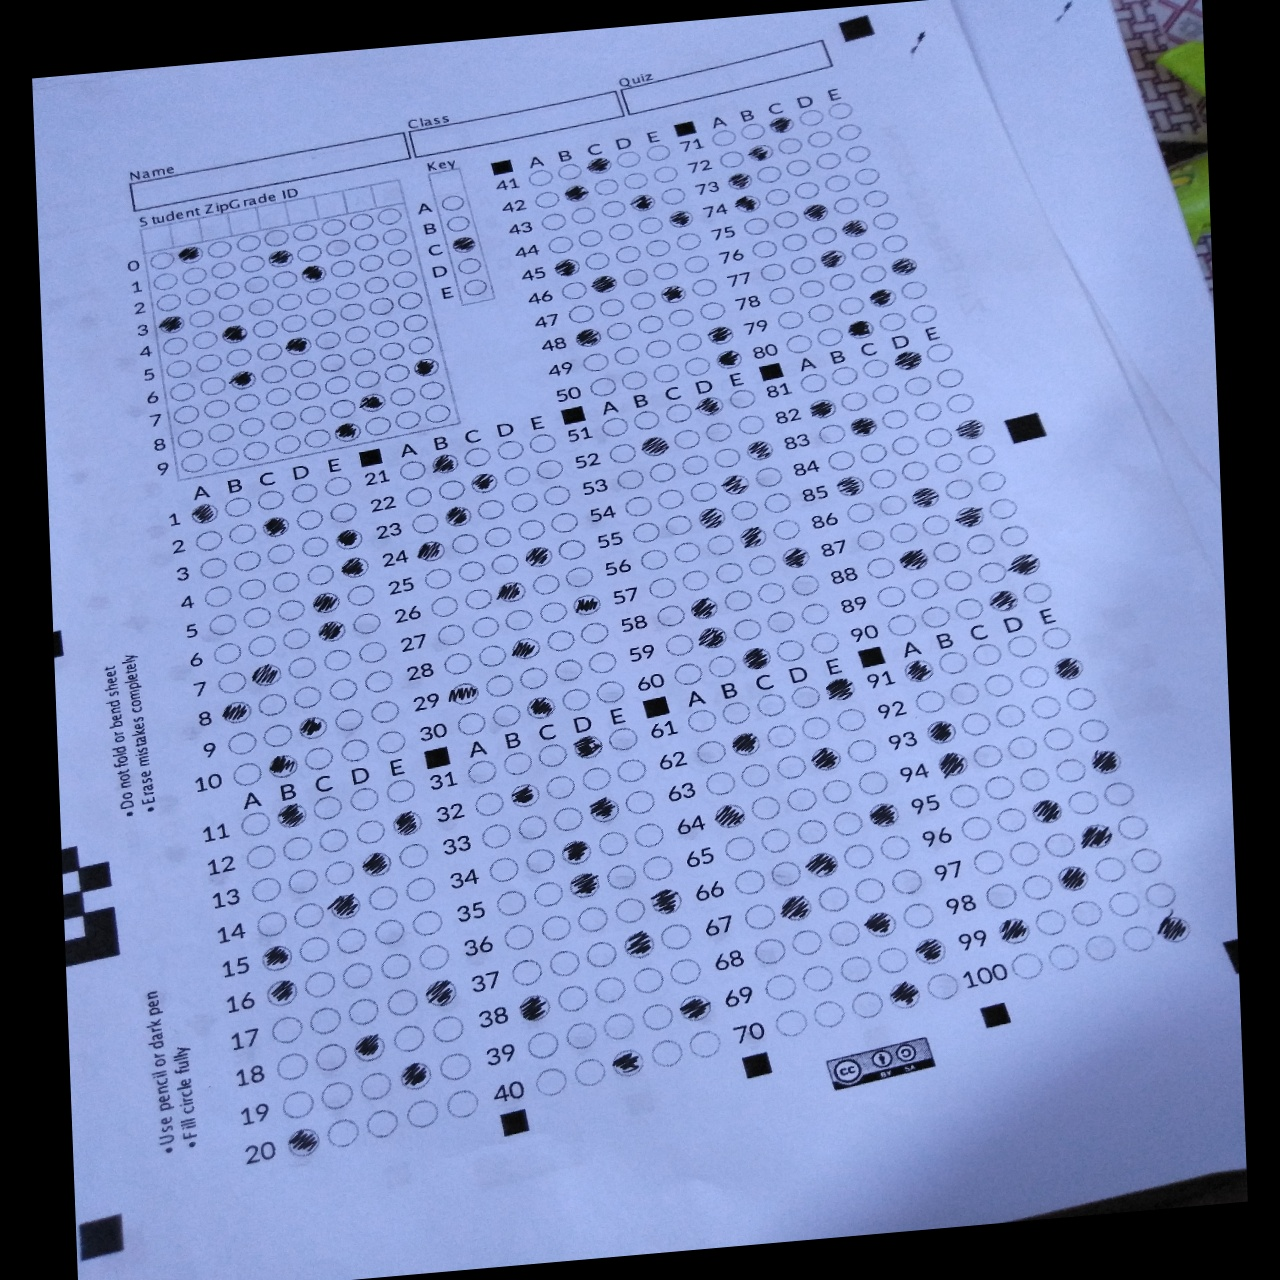not-c: (922, 971, 964, 1005), (1115, 922, 1156, 956), (806, 998, 847, 1032), (1143, 877, 1183, 911), (1104, 888, 1144, 922), (1041, 940, 1081, 974), (1005, 949, 1044, 983), (1125, 843, 1166, 876), (796, 961, 837, 994), (833, 952, 874, 985), (1033, 906, 1074, 939), (1080, 932, 1121, 965), (813, 881, 855, 914), (543, 772, 583, 805), (268, 1013, 308, 1046), (760, 971, 799, 1003), (873, 942, 913, 975), (1064, 897, 1104, 930), (767, 1007, 806, 1040), (828, 808, 867, 840), (520, 845, 561, 877), (573, 903, 612, 935), (584, 938, 622, 971), (443, 1088, 482, 1121), (430, 1013, 469, 1046), (749, 937, 788, 969), (983, 879, 1022, 912), (631, 818, 670, 850), (549, 803, 588, 835), (593, 828, 633, 859), (527, 879, 567, 911), (561, 1020, 601, 1051), (506, 956, 546, 988), (382, 986, 422, 1017), (376, 952, 416, 983), (369, 917, 409, 948), (434, 1050, 474, 1082), (411, 942, 451, 974), (686, 1027, 726, 1058), (599, 1010, 639, 1042), (639, 1001, 679, 1033), (338, 961, 377, 993), (754, 824, 794, 856), (839, 840, 879, 872), (888, 865, 928, 897), (1037, 622, 1077, 654), (1017, 872, 1058, 903), (314, 1040, 352, 1073), (1092, 855, 1130, 887), (826, 915, 864, 948), (409, 907, 448, 939), (602, 860, 641, 892), (278, 1089, 316, 1121), (319, 1080, 358, 1111), (358, 1071, 396, 1103), (365, 1108, 403, 1139), (659, 921, 697, 953), (646, 1036, 685, 1068), (792, 815, 831, 846), (782, 783, 821, 815), (850, 874, 888, 906), (818, 774, 857, 805), (901, 899, 940, 931), (610, 894, 649, 925), (553, 982, 593, 1013), (386, 1023, 425, 1054), (331, 926, 370, 956), (1064, 787, 1104, 817), (717, 835, 757, 865), (1099, 779, 1139, 810), (1051, 753, 1091, 783), (1012, 764, 1051, 795), (1040, 831, 1080, 862), (1005, 838, 1044, 869), (981, 774, 1021, 804), (945, 782, 985, 812), (501, 922, 538, 954), (847, 989, 885, 1021), (621, 787, 659, 818), (539, 912, 577, 944), (545, 948, 583, 980), (533, 1065, 571, 1097), (403, 1098, 441, 1130), (669, 956, 707, 988), (628, 964, 666, 995), (297, 934, 334, 966), (301, 969, 339, 1001), (855, 765, 892, 797), (639, 852, 678, 883), (591, 974, 629, 1005), (570, 1057, 608, 1088), (305, 1005, 343, 1035), (346, 996, 384, 1027), (273, 1049, 312, 1080), (325, 1118, 363, 1149), (745, 792, 784, 823), (876, 831, 914, 862), (990, 804, 1029, 835), (969, 847, 1008, 878), (738, 901, 778, 931), (729, 867, 769, 897), (1115, 812, 1155, 842), (951, 813, 990, 843), (749, 937, 789, 966), (524, 1028, 561, 1058), (764, 859, 803, 888), (787, 927, 825, 956), (397, 840, 434, 870), (956, 709, 993, 738), (835, 704, 871, 734), (844, 736, 880, 765), (990, 699, 1027, 728), (1028, 692, 1064, 721), (1076, 715, 1112, 744), (735, 761, 771, 790), (787, 572, 823, 601), (799, 600, 836, 629), (809, 627, 845, 656), (659, 631, 695, 660), (769, 515, 805, 544), (613, 756, 651, 784), (578, 765, 615, 794), (499, 749, 537, 777), (486, 855, 524, 883), (278, 835, 316, 862), (764, 722, 799, 751), (799, 714, 835, 743), (913, 688, 948, 717), (1005, 730, 1040, 760), (971, 640, 1006, 669), (1005, 632, 1040, 661), (703, 769, 738, 798), (679, 566, 714, 595), (1021, 577, 1056, 606), (907, 573, 942, 602), (873, 580, 908, 610), (885, 612, 920, 641), (669, 660, 704, 689), (762, 489, 797, 518), (751, 461, 787, 490), (465, 758, 502, 787), (247, 876, 284, 904), (286, 867, 322, 896), (404, 874, 441, 903), (245, 842, 281, 870), (352, 817, 388, 845), (610, 726, 646, 754), (472, 789, 509, 817), (980, 669, 1016, 697), (1063, 683, 1099, 712), (693, 737, 729, 765), (938, 567, 974, 595), (951, 594, 987, 622), (919, 602, 955, 631), (309, 794, 347, 821), (365, 885, 402, 912), (292, 903, 329, 930), (320, 860, 358, 887), (315, 826, 353, 853), (516, 813, 553, 840), (772, 753, 806, 782), (685, 706, 719, 735), (755, 692, 790, 720), (789, 683, 824, 712), (948, 679, 983, 707), (1041, 724, 1076, 753), (719, 699, 754, 727), (680, 568, 715, 597), (645, 573, 680, 601), (730, 615, 765, 644), (762, 608, 797, 636), (973, 560, 1008, 588), (707, 649, 742, 678), (645, 458, 680, 486), (710, 558, 745, 586), (256, 911, 292, 938), (543, 774, 579, 801), (537, 742, 573, 769), (495, 888, 531, 915), (479, 824, 516, 851), (1017, 663, 1051, 692), (971, 742, 1005, 770), (651, 601, 685, 629), (776, 636, 810, 665), (985, 495, 1019, 523), (996, 522, 1030, 550), (652, 484, 686, 512), (350, 610, 386, 636), (558, 685, 593, 712), (475, 644, 510, 670), (369, 697, 404, 724), (290, 685, 325, 712), (935, 649, 971, 676), (974, 468, 1009, 495), (660, 511, 695, 538), (685, 476, 720, 503), (754, 580, 789, 607), (595, 678, 629, 704), (636, 545, 670, 572), (721, 587, 755, 614), (703, 531, 737, 558), (678, 452, 712, 479), (726, 497, 760, 524), (745, 552, 779, 579), (474, 497, 509, 523), (561, 563, 597, 588), (547, 509, 583, 535), (515, 516, 550, 542), (508, 489, 543, 515), (461, 586, 496, 612), (434, 621, 469, 647), (585, 648, 620, 674), (550, 658, 585, 683), (578, 619, 613, 645), (517, 666, 552, 692), (504, 607, 539, 633), (542, 627, 577, 653), (325, 675, 360, 701), (333, 707, 368, 733), (355, 640, 390, 666), (384, 777, 420, 803), (302, 745, 338, 771), (285, 655, 320, 681), (279, 625, 314, 651), (259, 722, 294, 748), (256, 692, 291, 717), (215, 670, 250, 696), (527, 571, 561, 597), (556, 537, 590, 563), (542, 483, 576, 509), (482, 524, 516, 550), (486, 551, 520, 577), (455, 558, 489, 584), (346, 583, 380, 608), (454, 712, 488, 737), (443, 648, 477, 674), (488, 701, 522, 727), (536, 600, 570, 626), (483, 672, 517, 697), (339, 737, 373, 763), (320, 647, 354, 673), (363, 668, 397, 694), (240, 810, 274, 836), (246, 633, 280, 659), (231, 762, 265, 788), (225, 729, 259, 755), (207, 641, 241, 667), (347, 787, 382, 811), (600, 411, 632, 438), (712, 445, 744, 471), (890, 433, 922, 458), (856, 527, 888, 553), (965, 529, 998, 554), (469, 615, 503, 640), (373, 730, 407, 755), (605, 441, 636, 467), (858, 441, 890, 467), (818, 420, 850, 445), (631, 520, 662, 546), (703, 418, 735, 444), (859, 355, 891, 381), (501, 464, 533, 489), (461, 445, 493, 470), (922, 424, 955, 449), (942, 477, 975, 502), (922, 340, 955, 365), (631, 409, 663, 434), (672, 539, 702, 565), (866, 554, 897, 580), (825, 448, 856, 474), (903, 373, 933, 399), (735, 413, 765, 438), (878, 407, 908, 433), (670, 427, 701, 452), (397, 457, 429, 482), (437, 477, 469, 502), (429, 594, 461, 619), (402, 484, 434, 509), (614, 468, 646, 492), (900, 458, 932, 483), (877, 492, 908, 517), (932, 539, 964, 564), (871, 381, 903, 406), (911, 399, 942, 423), (934, 366, 966, 390), (830, 363, 862, 388), (728, 387, 760, 411), (838, 388, 870, 413), (495, 440, 527, 463), (277, 598, 307, 622), (204, 584, 234, 608), (846, 501, 877, 525), (624, 493, 654, 518), (933, 450, 964, 475), (887, 520, 918, 545), (921, 511, 952, 536), (662, 402, 693, 427), (305, 561, 335, 586), (535, 458, 566, 482), (451, 531, 483, 554), (529, 431, 560, 455), (411, 511, 443, 535), (421, 566, 452, 590), (869, 465, 900, 489), (966, 443, 998, 467), (946, 390, 978, 414), (294, 508, 324, 532), (195, 527, 224, 552), (331, 501, 360, 525), (302, 535, 332, 559), (290, 482, 320, 505), (241, 605, 272, 628), (198, 557, 229, 580), (799, 372, 830, 395), (237, 415, 266, 438), (322, 474, 352, 497), (233, 549, 263, 572), (166, 381, 197, 403), (271, 570, 301, 592), (264, 543, 294, 565), (236, 578, 266, 600), (610, 343, 640, 366), (708, 127, 738, 149), (319, 216, 348, 238), (382, 226, 411, 248), (375, 205, 404, 227), (393, 409, 422, 431), (324, 373, 353, 395), (294, 241, 324, 264), (348, 346, 377, 368), (333, 279, 362, 301), (352, 231, 381, 253), (407, 334, 436, 356), (396, 290, 425, 312), (270, 268, 299, 291), (188, 328, 217, 350), (175, 427, 204, 449), (165, 359, 195, 381), (225, 346, 254, 368), (216, 302, 245, 325), (212, 280, 241, 302), (272, 433, 301, 455), (298, 403, 327, 425), (257, 489, 286, 511), (223, 496, 252, 518), (229, 523, 258, 545), (207, 614, 237, 636), (697, 300, 727, 322), (673, 230, 702, 252), (658, 184, 687, 206), (586, 250, 615, 272), (644, 338, 673, 360), (613, 245, 642, 267), (600, 197, 629, 219), (767, 285, 796, 307), (566, 302, 595, 325), (538, 211, 567, 233), (784, 332, 813, 354), (810, 223, 839, 245), (783, 156, 812, 178), (822, 172, 851, 195), (798, 109, 828, 131), (879, 232, 908, 254), (870, 210, 899, 232), (843, 142, 872, 164), (806, 301, 836, 324), (779, 230, 809, 252), (828, 270, 857, 292), (324, 236, 353, 258), (316, 350, 347, 372), (241, 438, 268, 462), (147, 250, 175, 272), (455, 256, 483, 278), (440, 191, 468, 213), (423, 403, 451, 425), (309, 307, 338, 329), (343, 324, 372, 346), (370, 316, 399, 339), (356, 253, 384, 275), (390, 268, 418, 291), (274, 291, 302, 313), (363, 414, 392, 436), (188, 308, 216, 331), (184, 287, 212, 309), (154, 292, 182, 314), (152, 271, 181, 293), (209, 260, 237, 282), (252, 318, 280, 340), (690, 169, 719, 191), (526, 166, 554, 189), (612, 149, 640, 171), (683, 253, 712, 275), (621, 369, 649, 392), (635, 313, 663, 335), (683, 355, 712, 377), (651, 260, 679, 282), (816, 326, 844, 348), (859, 263, 887, 285), (835, 121, 863, 143), (798, 277, 826, 299), (204, 239, 233, 260), (233, 234, 263, 256), (290, 222, 319, 243), (348, 213, 377, 234), (461, 277, 490, 298), (388, 384, 417, 406), (328, 397, 358, 418), (354, 369, 383, 390), (339, 301, 368, 322), (328, 259, 358, 280), (382, 363, 411, 384), (377, 341, 407, 362), (402, 312, 431, 333), (279, 313, 308, 334), (161, 336, 190, 358), (232, 393, 261, 414), (209, 445, 238, 467), (198, 375, 227, 396), (302, 427, 332, 448), (620, 169, 649, 190), (599, 297, 628, 318), (554, 162, 584, 183), (651, 362, 680, 383), (620, 267, 649, 288), (606, 222, 635, 243), (593, 177, 622, 198), (674, 329, 703, 350), (666, 307, 695, 328), (644, 237, 673, 258), (742, 216, 771, 237), (590, 377, 619, 399), (581, 353, 611, 374), (559, 280, 588, 301), (546, 234, 576, 256), (874, 311, 904, 332), (775, 309, 804, 331), (777, 136, 806, 157), (831, 195, 860, 216), (813, 150, 843, 171), (803, 128, 832, 149), (899, 279, 928, 300), (789, 254, 818, 275), (763, 186, 792, 207), (738, 122, 768, 143), (753, 164, 782, 185), (838, 295, 867, 316), (264, 384, 293, 406), (418, 379, 445, 401), (651, 162, 678, 184), (772, 207, 799, 230), (263, 229, 291, 250), (443, 213, 471, 234), (315, 329, 343, 350), (302, 286, 331, 307), (363, 274, 392, 295), (386, 247, 414, 268), (181, 264, 209, 285), (181, 452, 209, 474), (172, 404, 200, 425), (241, 275, 270, 297), (240, 254, 268, 275), (207, 422, 236, 443), (203, 397, 231, 418), (195, 352, 223, 373), (268, 410, 297, 431), (293, 381, 321, 402), (245, 297, 273, 318), (690, 277, 719, 298), (606, 320, 634, 341), (568, 206, 597, 227), (629, 291, 658, 312), (638, 215, 666, 236), (828, 102, 856, 123), (760, 263, 788, 284), (750, 239, 778, 260), (719, 148, 747, 169), (533, 188, 561, 209), (908, 302, 937, 324), (791, 179, 819, 200), (850, 240, 878, 261), (853, 166, 881, 188), (366, 297, 395, 316), (258, 365, 287, 384), (290, 358, 316, 379), (256, 342, 282, 363), (644, 143, 670, 164), (862, 188, 888, 209), (576, 229, 604, 248)
taken-c: (348, 1032, 388, 1064), (1027, 795, 1067, 828), (397, 1060, 436, 1092), (803, 849, 842, 881), (1051, 652, 1090, 685), (932, 747, 971, 779), (1089, 745, 1128, 778), (515, 992, 554, 1023), (1155, 913, 1194, 945), (863, 908, 903, 940), (865, 799, 905, 831), (993, 915, 1033, 947), (897, 655, 937, 687), (806, 742, 846, 774), (610, 1047, 647, 1080), (286, 1126, 324, 1159), (885, 979, 922, 1012), (912, 935, 951, 967), (1077, 821, 1116, 852), (1054, 864, 1092, 896), (919, 716, 958, 748), (824, 673, 863, 704), (567, 871, 607, 901), (358, 850, 397, 880), (390, 809, 429, 839), (258, 942, 297, 973), (327, 892, 366, 922), (983, 587, 1023, 617), (676, 995, 715, 1024), (620, 930, 659, 959), (777, 894, 816, 924), (647, 887, 686, 917), (423, 978, 462, 1007), (263, 978, 301, 1007), (896, 545, 933, 574), (560, 837, 594, 869), (586, 795, 622, 824), (1008, 550, 1043, 579), (954, 414, 990, 442), (953, 502, 987, 531), (846, 411, 881, 440), (908, 483, 942, 511), (445, 681, 481, 708), (267, 753, 302, 779), (218, 699, 253, 726), (509, 635, 543, 662), (572, 734, 606, 761), (525, 693, 559, 720), (778, 543, 812, 570), (274, 802, 309, 828), (888, 253, 921, 280), (844, 316, 877, 343), (297, 714, 331, 740), (740, 645, 774, 670), (508, 783, 542, 809), (833, 474, 867, 499), (311, 590, 343, 615), (730, 731, 763, 757), (892, 348, 925, 374), (866, 285, 899, 311), (713, 803, 747, 828), (189, 501, 222, 525), (801, 200, 833, 225), (429, 451, 461, 476), (442, 504, 474, 529), (316, 619, 348, 644), (523, 544, 554, 568), (340, 556, 372, 580), (695, 625, 727, 649), (571, 592, 602, 617), (688, 595, 720, 620), (806, 397, 838, 422), (745, 141, 777, 165), (720, 474, 753, 497), (723, 170, 756, 193), (261, 515, 292, 539), (333, 420, 365, 443), (659, 282, 690, 306), (251, 663, 282, 687), (333, 527, 365, 551), (414, 539, 445, 563), (737, 525, 769, 549), (696, 506, 728, 530), (730, 192, 763, 215), (768, 113, 797, 137), (715, 347, 745, 370), (838, 217, 869, 240), (817, 245, 847, 268), (693, 395, 724, 417), (706, 324, 737, 346), (497, 580, 529, 602), (640, 435, 670, 457), (469, 472, 501, 493), (173, 244, 203, 266), (590, 273, 619, 295), (627, 192, 656, 215), (552, 256, 581, 278), (561, 182, 591, 204), (282, 334, 312, 356), (574, 327, 602, 349), (585, 154, 613, 176), (227, 369, 256, 392), (358, 392, 387, 413), (411, 356, 441, 377), (157, 314, 186, 335), (265, 247, 294, 268), (300, 264, 329, 285), (447, 234, 476, 256), (745, 440, 775, 461), (220, 324, 248, 345), (667, 207, 695, 229)
